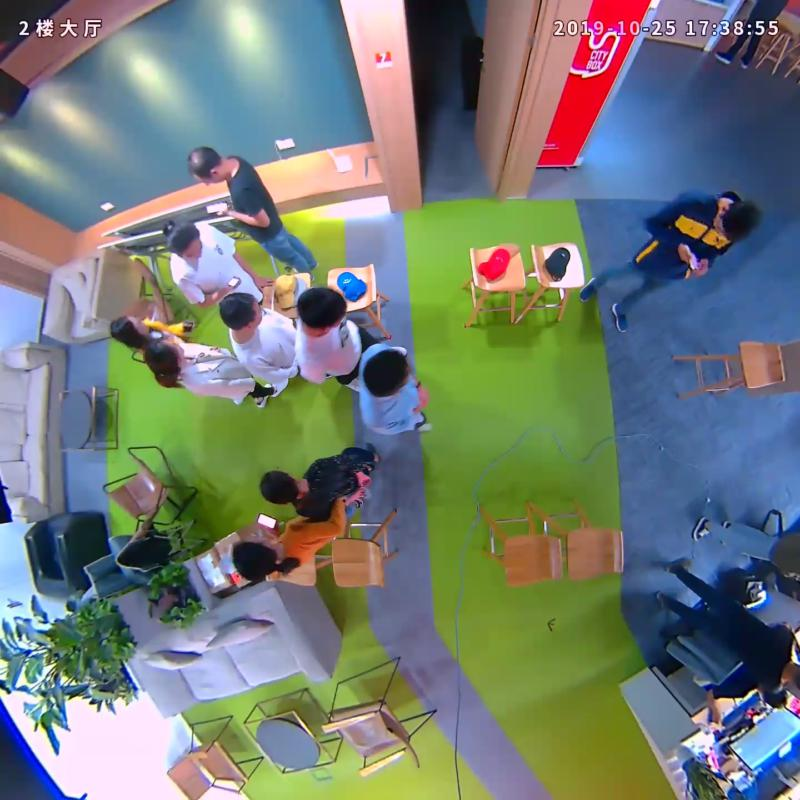head: (363, 349, 411, 398), (297, 287, 347, 331), (712, 199, 760, 241), (232, 536, 275, 581), (218, 292, 263, 331), (165, 221, 203, 262), (185, 146, 224, 184), (145, 338, 185, 375), (259, 471, 302, 505), (108, 313, 149, 344)
